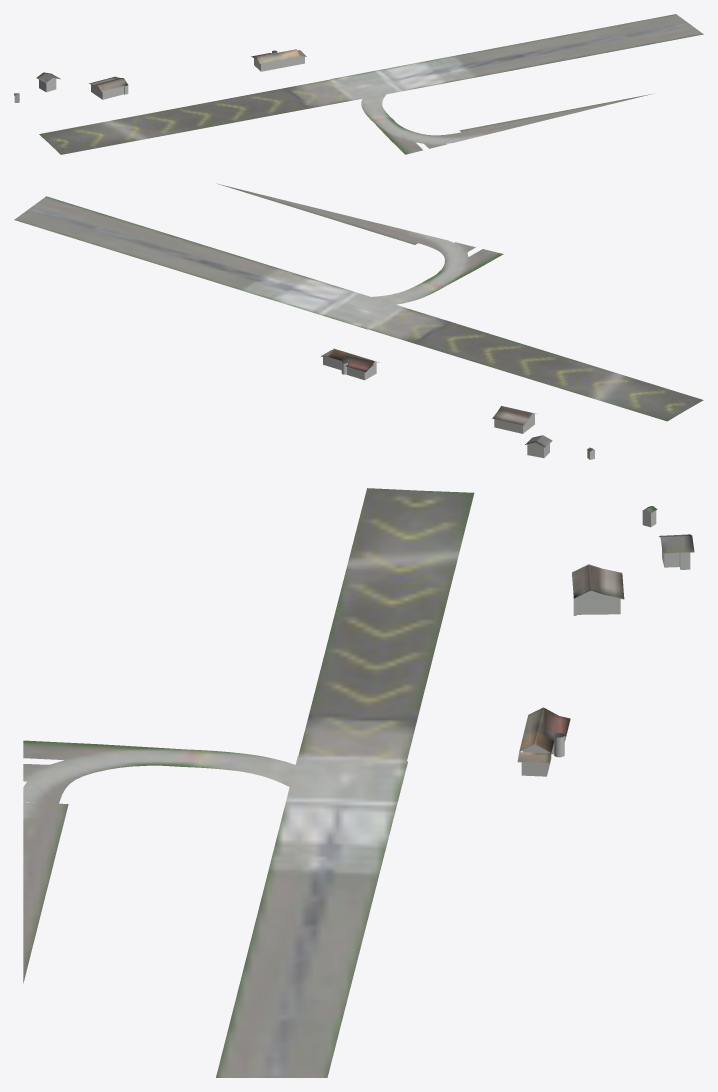
File: LSMM_-3_0.glb
3 renders of one model, top to bottom at view 1: azimuth 30°, elevation 25°; view 2: azimuth 150°, elevation 25°; view 3: azimuth 270°, elevation 25°, orthographic. The views are drawn at different scales.
Parts seen in each view (by area): view 1: pavement_LSMM_pavement_5300_2354, building_1076636357303992, building_b92331ccedc5eb1c, building_e088f5247b56cd8e, building_d8b20205f43aa8f3; view 2: pavement_LSMM_pavement_5300_2354, building_1076636357303992, building_b92331ccedc5eb1c, building_d8b20205f43aa8f3, building_e088f5247b56cd8e; view 3: pavement_LSMM_pavement_5300_2354, building_b92331ccedc5eb1c, building_d8b20205f43aa8f3, building_1076636357303992.
Boxes of the visible parts, left/top/right/bottom form: pavement_LSMM_pavement_5300_2354: left=39, top=14, right=703, bottom=154; building_1076636357303992: left=14, top=78, right=128, bottom=102; building_b92331ccedc5eb1c: left=14, top=72, right=127, bottom=95; building_e088f5247b56cd8e: left=254, top=52, right=304, bottom=71; building_d8b20205f43aa8f3: left=251, top=49, right=306, bottom=63; pavement_LSMM_pavement_5300_2354: left=14, top=183, right=698, bottom=421; building_1076636357303992: left=494, top=413, right=594, bottom=459; building_b92331ccedc5eb1c: left=492, top=406, right=594, bottom=451; building_d8b20205f43aa8f3: left=321, top=348, right=379, bottom=372; building_e088f5247b56cd8e: left=323, top=356, right=376, bottom=380; pavement_LSMM_pavement_5300_2354: left=23, top=492, right=474, bottom=1077; building_b92331ccedc5eb1c: left=572, top=506, right=694, bottom=599; building_d8b20205f43aa8f3: left=517, top=707, right=570, bottom=763; building_1076636357303992: left=573, top=510, right=690, bottom=615.
Size of the model in its own units: 504 by 10.56 by 242.
Materials: 3 (2 with a texture image).
